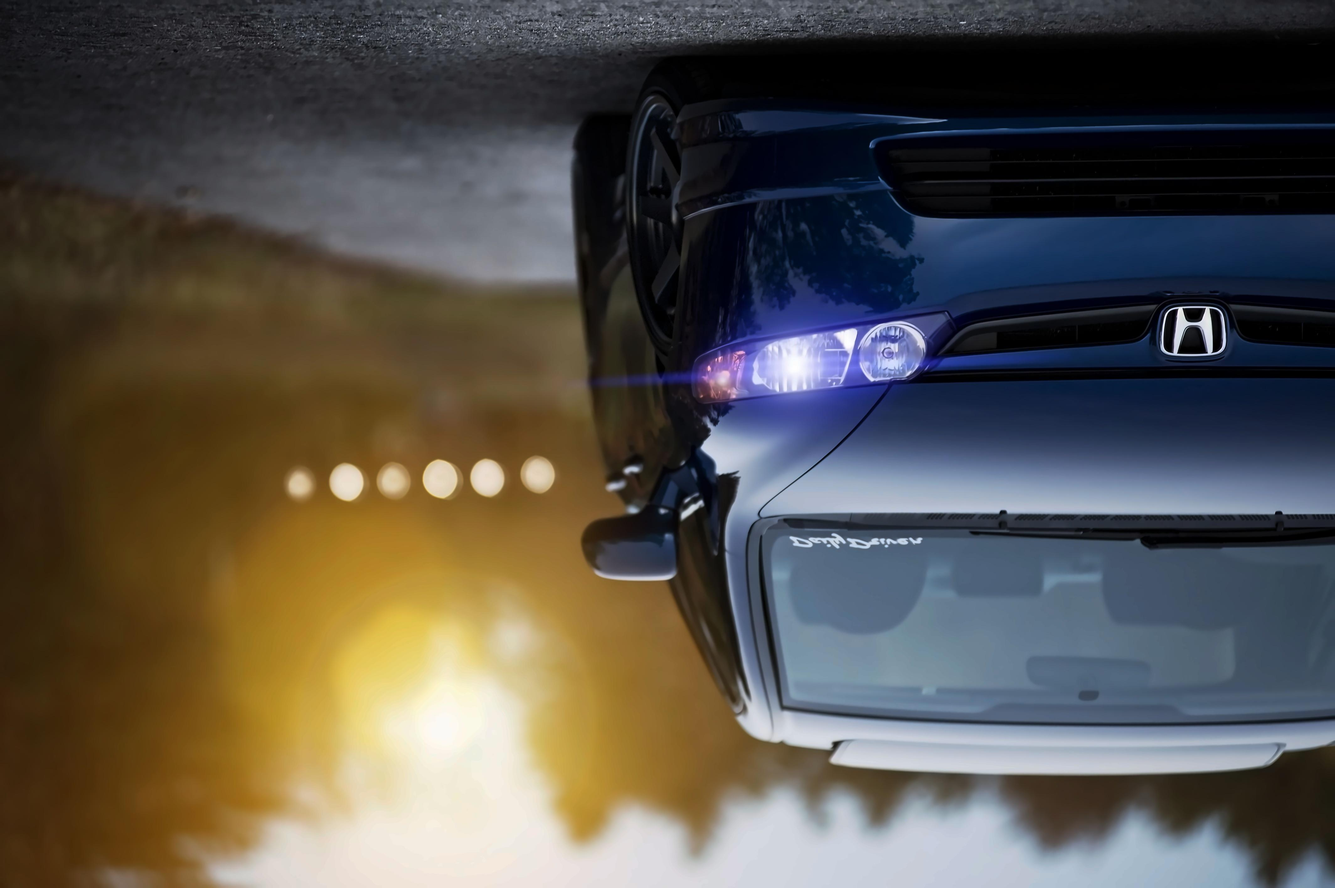Car hood: (742, 369, 1335, 548)
Front bumper: (664, 39, 1335, 357)
Headlight - -L-: (687, 309, 954, 410)
Side mirror - -L-: (575, 461, 703, 584)
